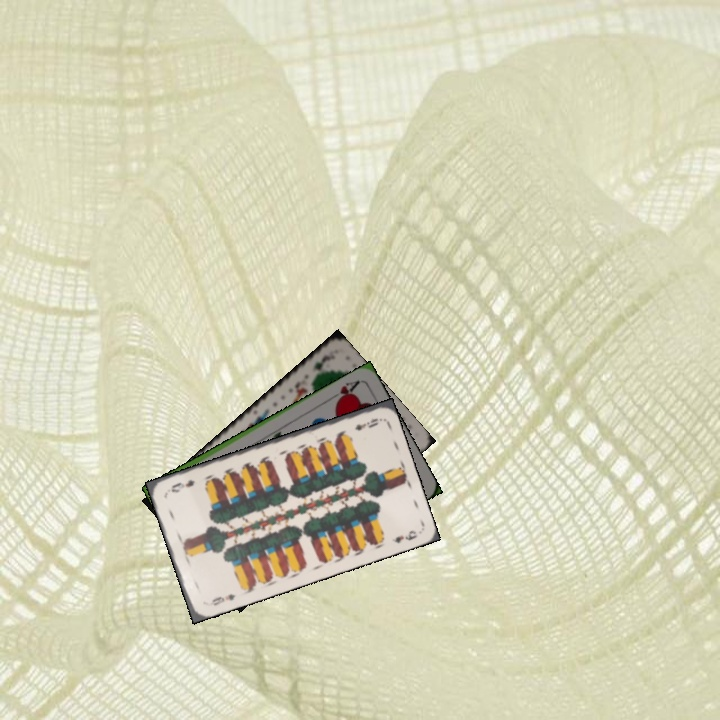E9: (351, 414, 380, 433), (208, 590, 238, 608)
GK: (308, 355, 326, 381)
HA: (325, 376, 363, 407)
